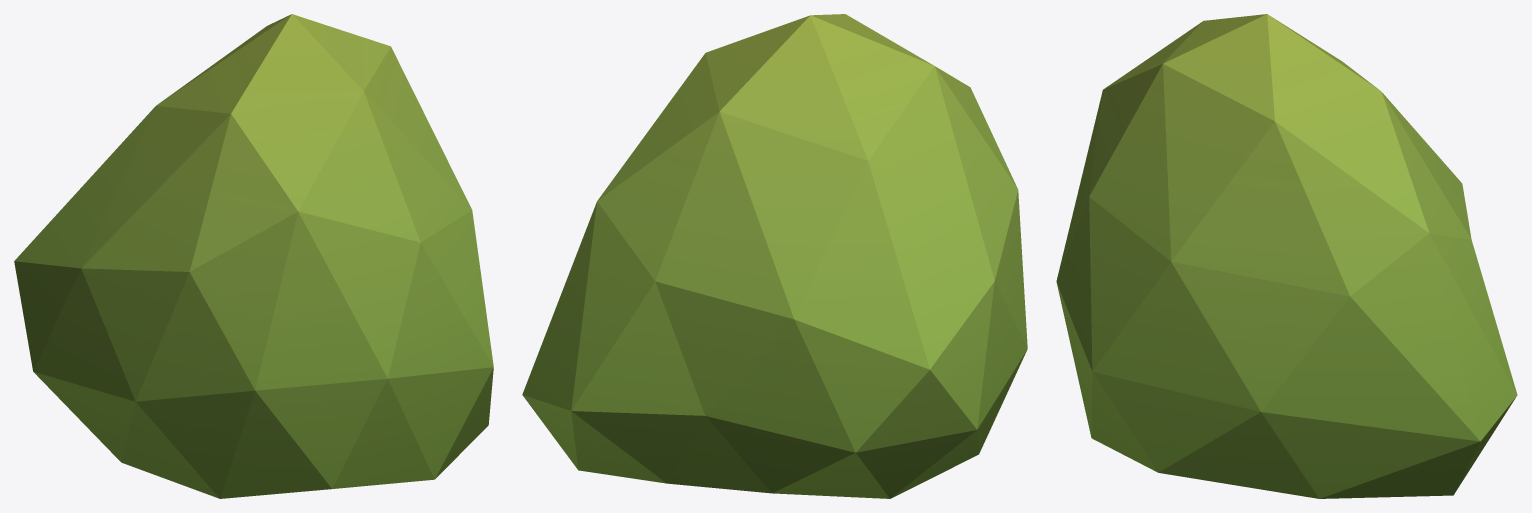
Rendered from Bush_01.fbx.
3 views of the same model, side by side, from view 1: azimuth 30°, elevation 25°; view 2: azimuth 150°, elevation 25°; view 3: azimuth 270°, elevation 25° (orthographic). The views are drawn at different scales.
Parts seen in each view (by area): view 1: Bush_01; view 2: Bush_01; view 3: Bush_01.
Boxes of the visible parts, <box> form: Bush_01: <box>14,14,493,498</box>; Bush_01: <box>522,14,1027,498</box>; Bush_01: <box>1056,14,1517,498</box>.
Size of the model in its own units: 1.83 by 1.9 by 1.89.
